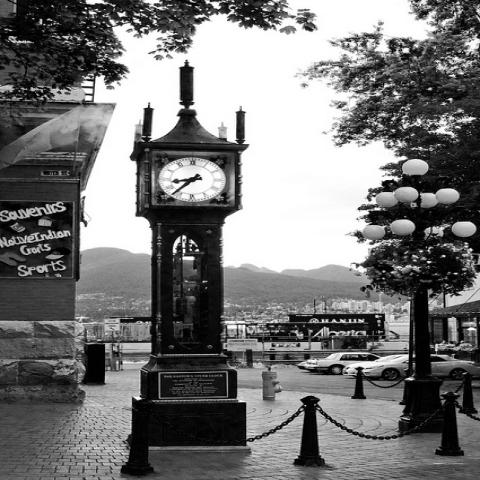car: (341, 353, 479, 381), (303, 352, 382, 375)
